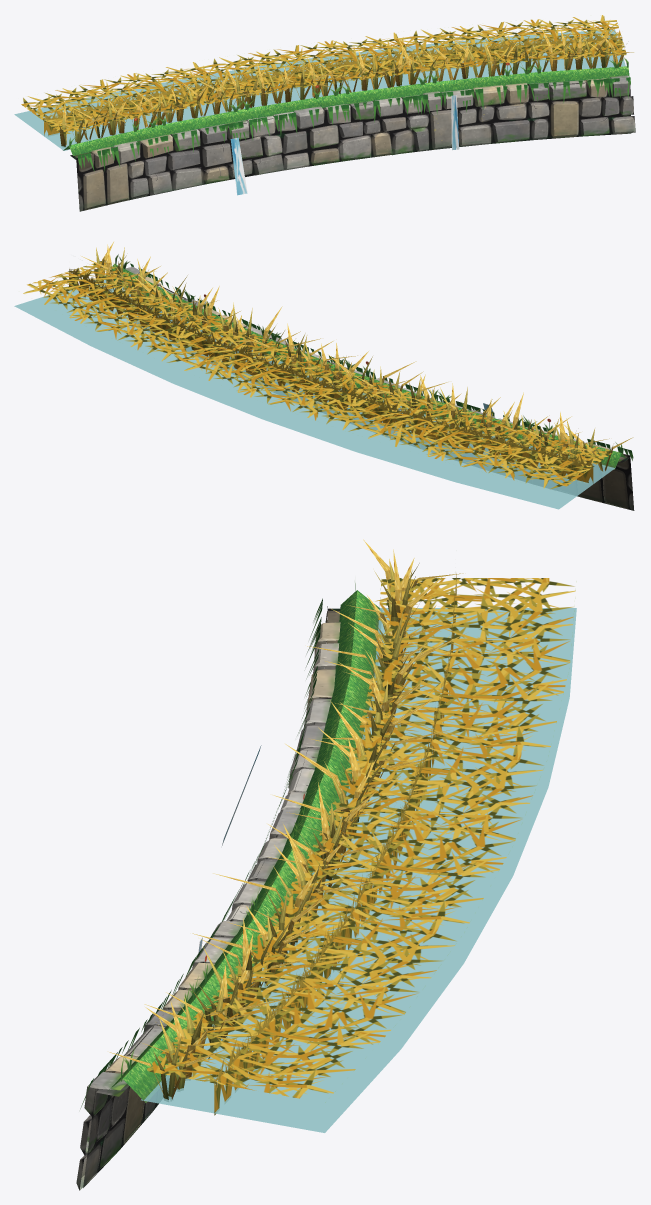
The model's file is terrace_concave_ripe_mid.glb.
3 renders of one model, top to bottom at view 1: azimuth 30°, elevation 25°; view 2: azimuth 150°, elevation 25°; view 3: azimuth 270°, elevation 25°, orthographic. The views are drawn at different scales.
Visible parts, largest first — view 1: terrace_concave_ripe_mid_wall, terrace_concave_ripe_mid_cards, terrace_concave_ripe_mid_lip, terrace_concave_ripe_mid_water, terrace_concave_ripe_mid_dike, terrace_concave_ripe_mid_falls; view 2: terrace_concave_ripe_mid_cards, terrace_concave_ripe_mid_water, terrace_concave_ripe_mid_lip, terrace_concave_ripe_mid_wall, terrace_concave_ripe_mid_dike; view 3: terrace_concave_ripe_mid_cards, terrace_concave_ripe_mid_water, terrace_concave_ripe_mid_lip, terrace_concave_ripe_mid_wall, terrace_concave_ripe_mid_dike.
Part boxes in pixels (left/top/right/bottom): terrace_concave_ripe_mid_wall: left=70, top=75, right=635, bottom=211; terrace_concave_ripe_mid_cards: left=21, top=15, right=630, bottom=171; terrace_concave_ripe_mid_lip: left=54, top=26, right=633, bottom=146; terrace_concave_ripe_mid_water: left=14, top=29, right=625, bottom=150; terrace_concave_ripe_mid_dike: left=63, top=66, right=629, bottom=155; terrace_concave_ripe_mid_falls: left=230, top=95, right=459, bottom=195; terrace_concave_ripe_mid_cards: left=23, top=254, right=633, bottom=489; terrace_concave_ripe_mid_water: left=14, top=280, right=615, bottom=509; terrace_concave_ripe_mid_lip: left=81, top=242, right=633, bottom=471; terrace_concave_ripe_mid_wall: left=125, top=266, right=634, bottom=510; terrace_concave_ripe_mid_dike: left=105, top=263, right=625, bottom=469; terrace_concave_ripe_mid_cards: left=80, top=573, right=575, bottom=1115; terrace_concave_ripe_mid_water: left=141, top=608, right=576, bottom=1132; terrace_concave_ripe_mid_lip: left=109, top=539, right=466, bottom=1099; terrace_concave_ripe_mid_wall: left=76, top=606, right=340, bottom=1190; terrace_concave_ripe_mid_dike: left=108, top=590, right=380, bottom=1102.
Size of the model in its own units: 13.04 by 1.95 by 5.15.
6 materials, 5 textured.
